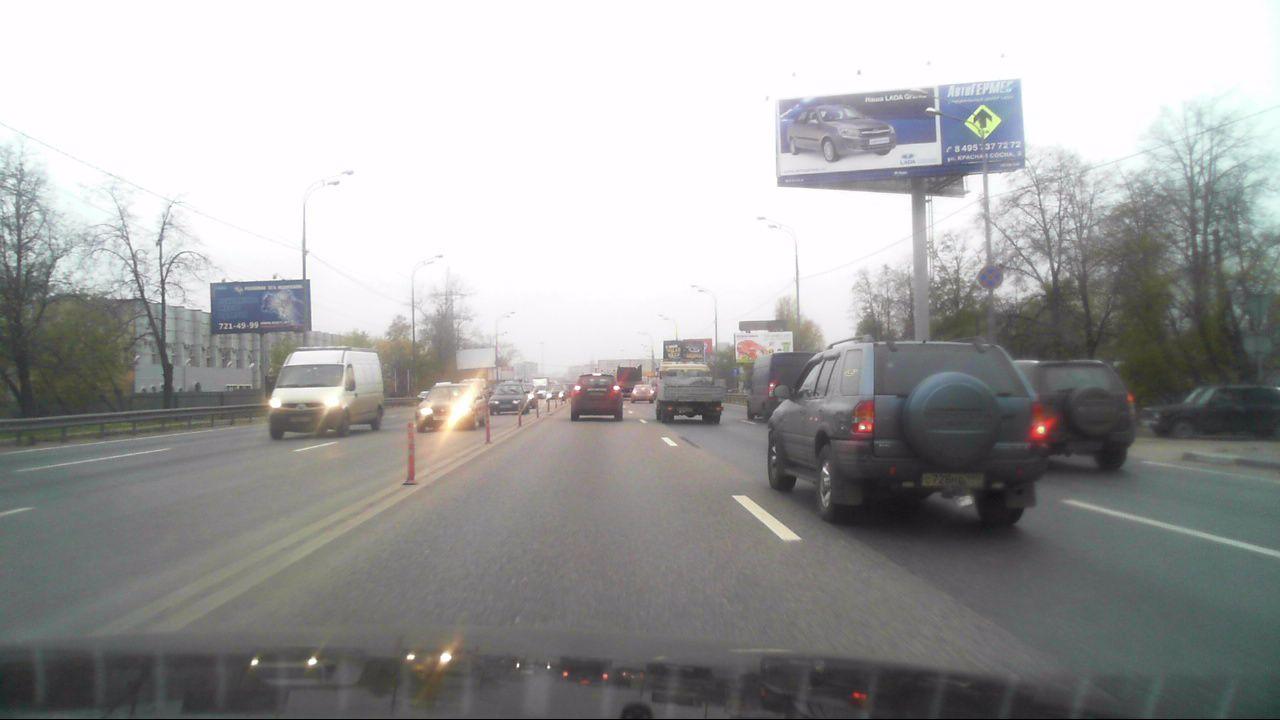No Parking: (981, 268, 1002, 290)
